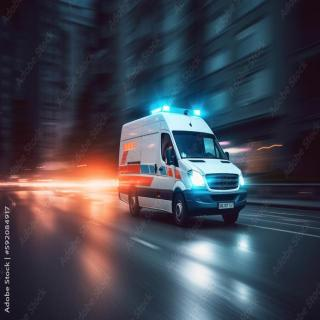Ambulance: (90, 92, 254, 243)
